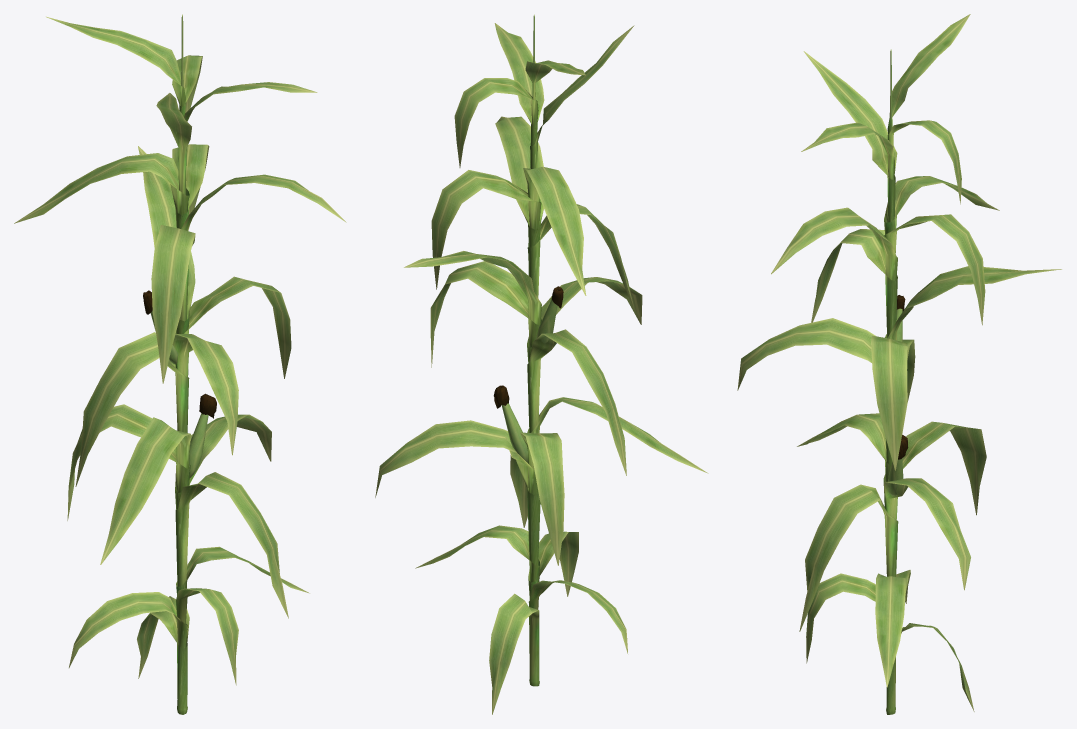
File: maizeCornPlant_edit_for_FBX.fbx
The picture shows the model from 3 angles, left to right: view 1: azimuth 30°, elevation 25°; view 2: azimuth 150°, elevation 25°; view 3: azimuth 270°, elevation 25°; orthographic projection. The views are drawn at different scales.
Parts seen in each view (by area): view 1: plants01; view 2: plants01; view 3: plants01.
Boxes of the visible parts, bbox=[...] form: plants01: bbox=[14, 14, 346, 714]; plants01: bbox=[375, 14, 708, 714]; plants01: bbox=[737, 14, 1061, 714].
Bounding box in the file's own units: 1143 × 2948 × 1304.
